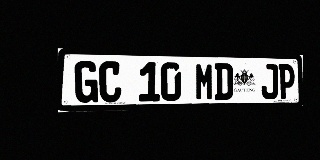0: (161, 62, 181, 101)
1: (139, 62, 160, 102)
C: (99, 61, 121, 102)
D: (215, 63, 233, 100)
G: (75, 61, 98, 103)
J: (261, 64, 278, 99)
M: (195, 63, 214, 101)
P: (279, 64, 295, 99)
